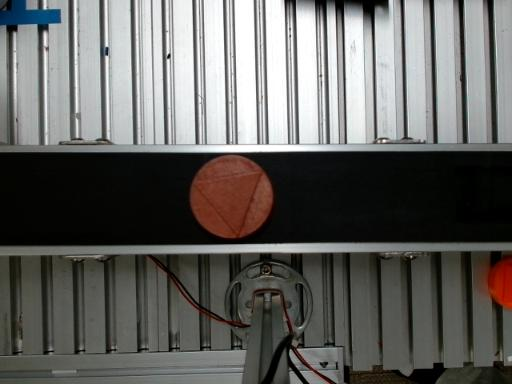Brown_Waper: (190, 155, 273, 239)
Not_Square: (193, 171, 264, 238)
